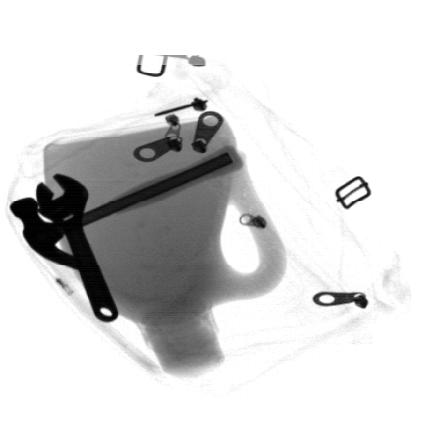Hammer: (11, 141, 248, 272)
Wrench: (32, 173, 119, 323)
